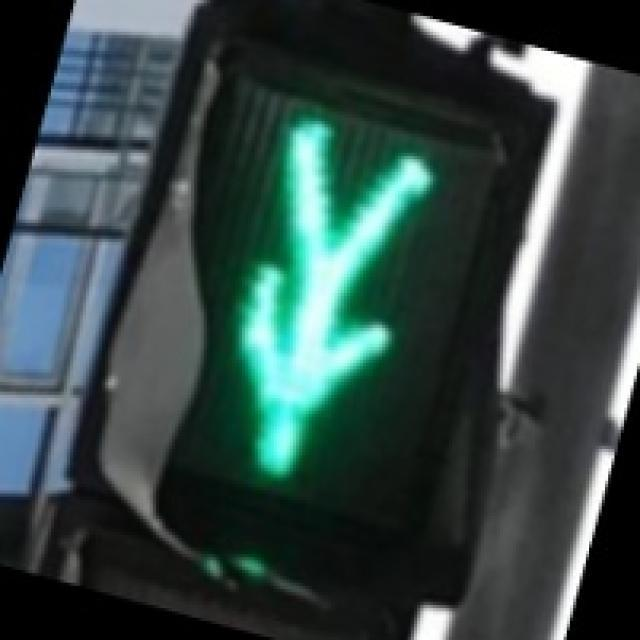geen-crossing: (124, 70, 506, 557)
